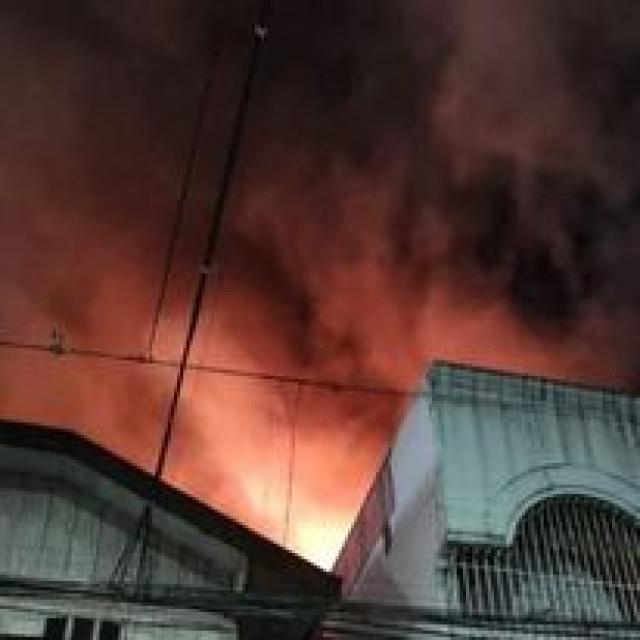Fire: (220, 456, 373, 580)
Smoke: (2, 2, 640, 394)
